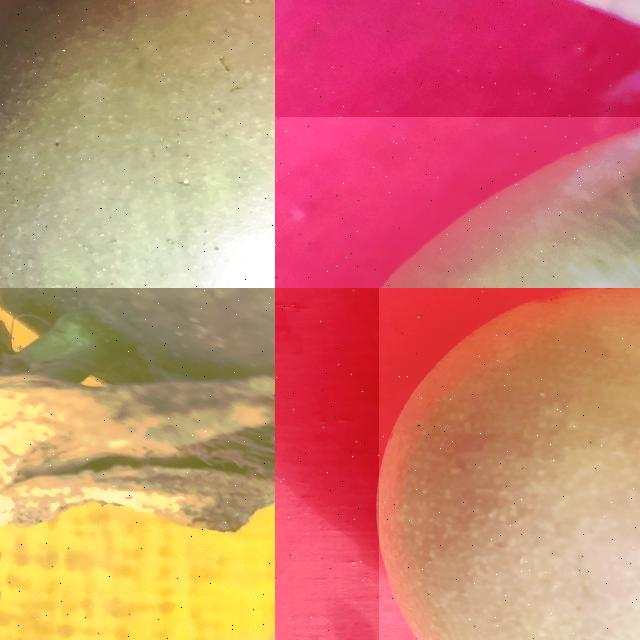Estado-1: (0, 0, 275, 288), (387, 133, 640, 288)
Estado-2: (379, 288, 640, 640)
